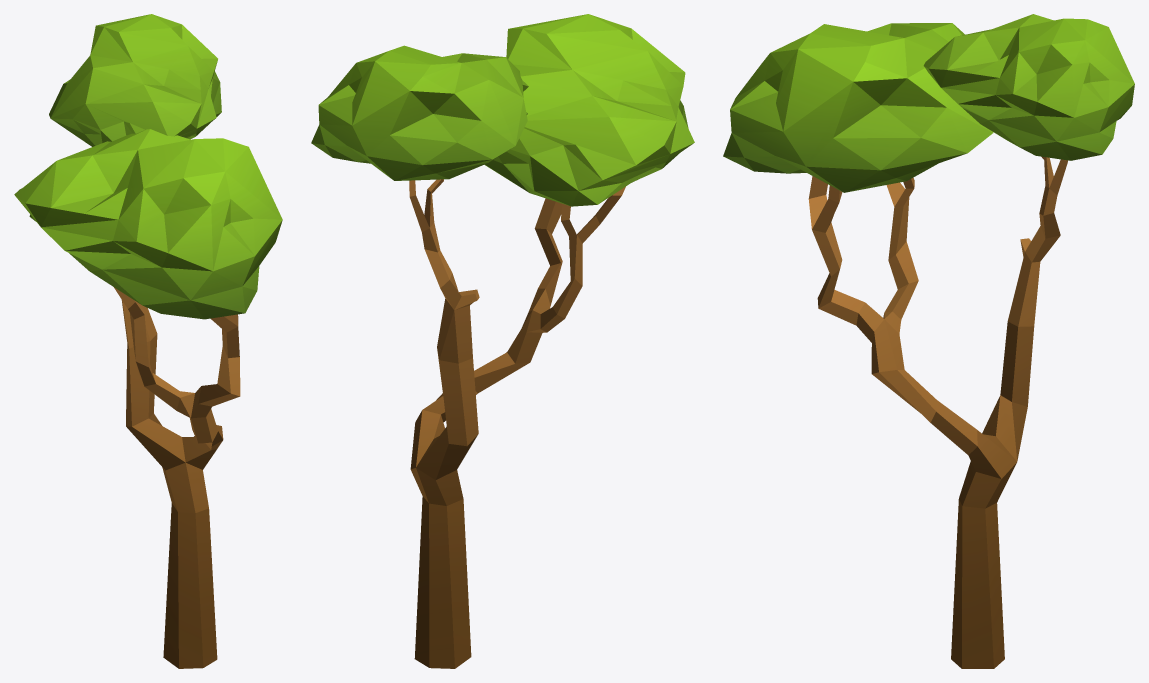
The model's file is SM_Env_Tree_01.fbx.
3 renders of one model, left to right at view 1: azimuth 30°, elevation 25°; view 2: azimuth 150°, elevation 25°; view 3: azimuth 270°, elevation 25°, orthographic. The views are drawn at different scales.
Parts seen in each view (by area): view 1: SM_Env_Tree_01; view 2: SM_Env_Tree_01; view 3: SM_Env_Tree_01.
Boxes of the visible parts, <box> form: SM_Env_Tree_01: <box>14,14,282,668</box>; SM_Env_Tree_01: <box>311,14,694,668</box>; SM_Env_Tree_01: <box>723,14,1134,668</box>.
Size of the model in its own units: 1.87 by 4.21 by 2.51.
1 material, 1 textured.
